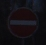No entry: (6, 5, 41, 40)
